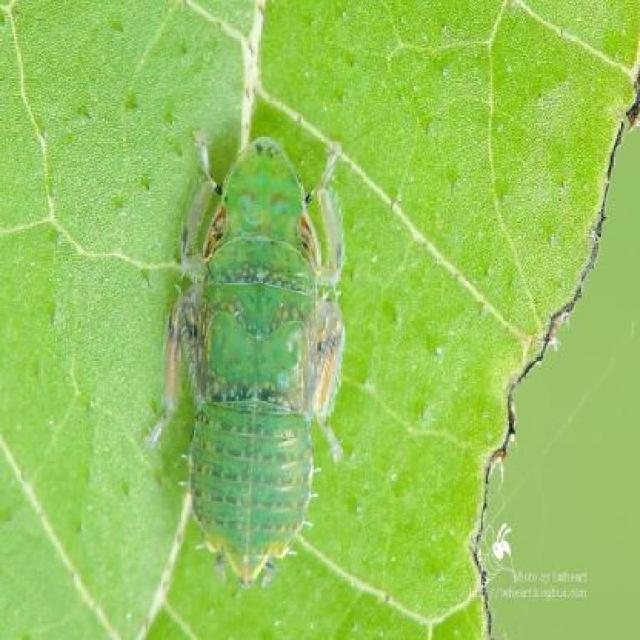green-leafhopper: (139, 129, 349, 585)
